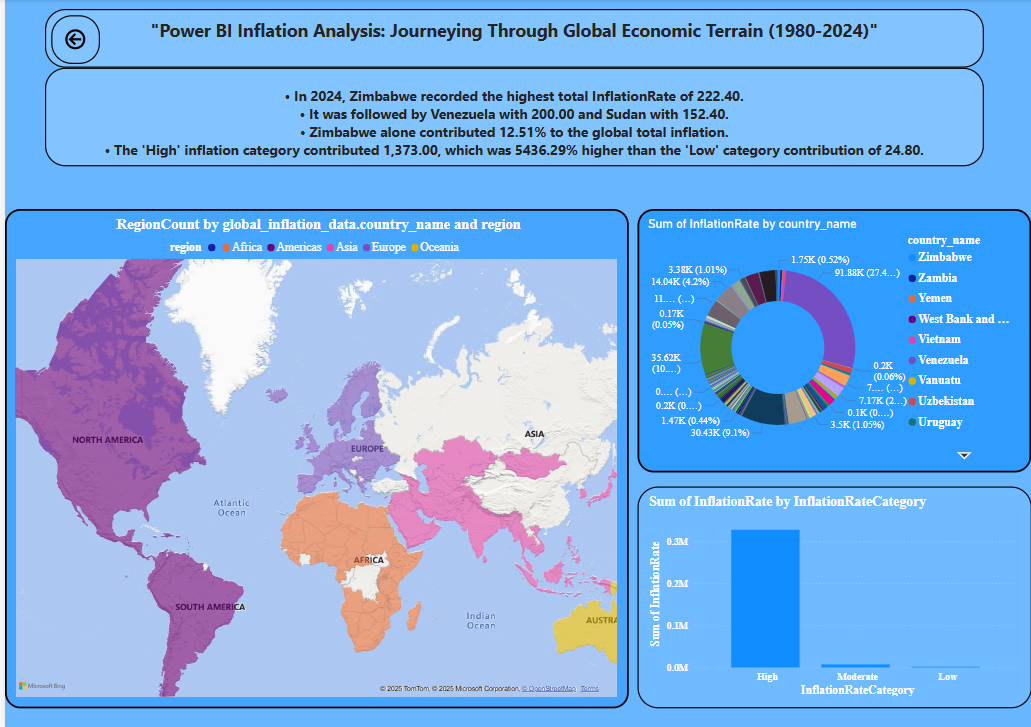

What the dashboard file says about the page in this screenshot:
{"tool":"powerbi","page":{"name":"Report","canvas":[1400,1000],"ordinal":1},"visuals":[{"type":"columnChart","fields":{"Y":["Sum(global_inflation_data.InflationRate)"],"Category":["global_inflation_data.InflationRateCategory"]},"box":[862.1,665.2,537.3,302.4],"z":0},{"type":"textbox","box":[55,13.8,1280,80],"z":1000},{"type":"actionButton","box":[63,21.8,66.4,66],"z":2000},{"type":"card","fields":{"Values":["global_inflation_data.InflationSummary"]},"box":[55,93.3,1280.2,134.8],"z":3000},{"type":"filledMap","fields":{"Category":["All.global_inflation_data.country_name"],"Series":["All.region"]},"box":[0,286.8,850,680.7],"z":5000},{"type":"donutChart","fields":{"Category":["global_inflation_data.country_name"],"Y":["Sum(global_inflation_data.InflationRate)"]},"box":[862.3,286.3,536.8,359.6],"z":5001}]}

Visuals, with their boxes in screenshot pixels (x1, y1, x2, y2), scaled from the page's 1400x1000 canvas onto the 1031x727 screenshot:
columnChart - Sum(global_inflation_data.InflationRate) x global_inflation_data.InflationRateCategory: detection(635, 484, 1030, 703)
textbox: detection(41, 10, 983, 68)
actionButton: detection(46, 16, 95, 64)
card - global_inflation_data.InflationSummary: detection(41, 68, 983, 166)
filledMap - All.global_inflation_data.country_name x All.region: detection(0, 209, 626, 703)
donutChart - global_inflation_data.country_name x Sum(global_inflation_data.InflationRate): detection(635, 208, 1030, 470)
